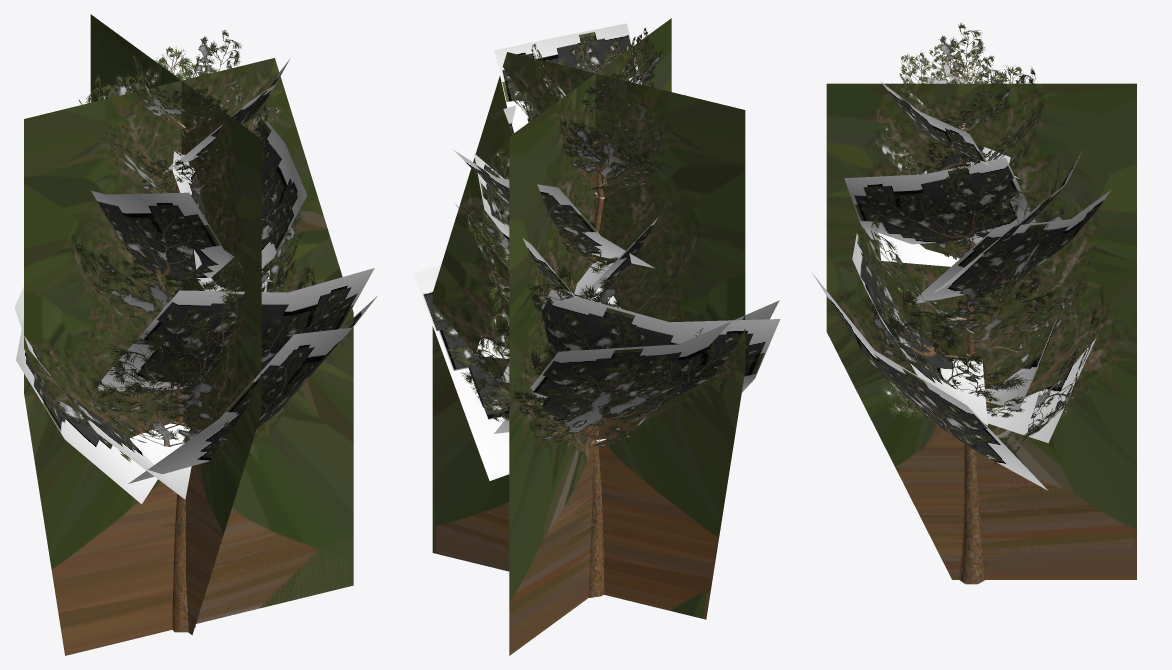
Rendered from Pine_bush1.fbx.
3 renders of one model, left to right at view 1: azimuth 30°, elevation 25°; view 2: azimuth 150°, elevation 25°; view 3: azimuth 270°, elevation 25°, orthographic. The views are drawn at different scales.
Parts seen in each view (by area): view 1: Billboard, LOD0; view 2: Billboard, LOD0; view 3: Billboard, LOD0.
Boxes of the visible parts, x1,y1,x2,y2 form: Billboard: (24,14,353,655); LOD0: (14,30,377,632); Billboard: (432,18,745,655); LOD0: (413,23,780,597); Billboard: (826,83,1136,579); LOD0: (811,22,1118,584).
Size of what is drawn, in the model's own units: 194 by 298 by 173.
